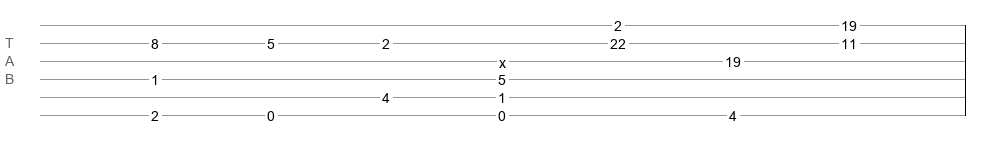0: (267, 108, 275, 118), (498, 108, 506, 118)
1: (151, 72, 159, 82), (498, 90, 506, 100)
11: (841, 36, 857, 46)
19: (725, 54, 741, 64), (841, 18, 857, 28)
2: (151, 108, 159, 118), (382, 36, 390, 46), (614, 18, 622, 28)
22: (610, 36, 626, 46)
4: (382, 90, 390, 100), (729, 108, 737, 118)
5: (267, 36, 275, 46), (498, 72, 506, 82)
8: (151, 36, 159, 46)
x: (499, 55, 506, 63)
